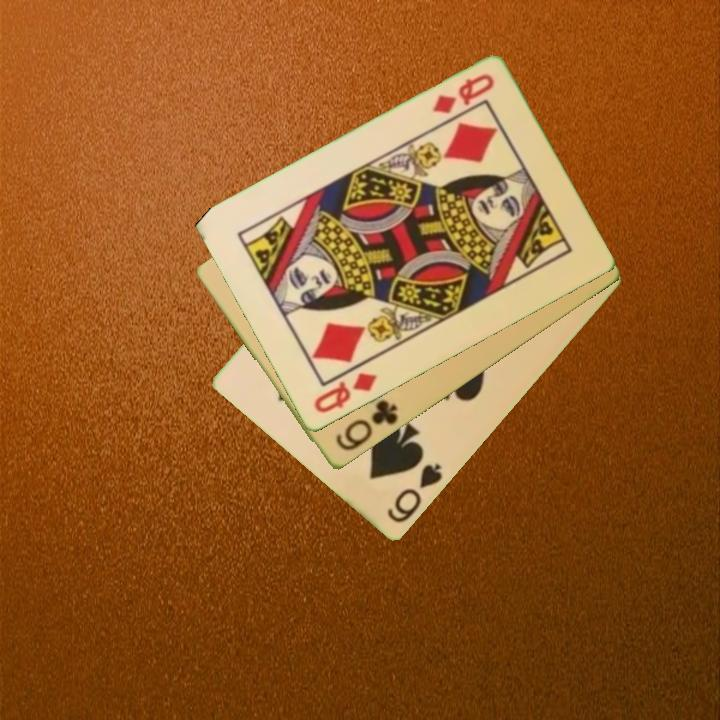6c: (332, 397, 401, 455)
6s: (383, 460, 445, 527)
Qd: (310, 369, 380, 417), (429, 70, 498, 118)
